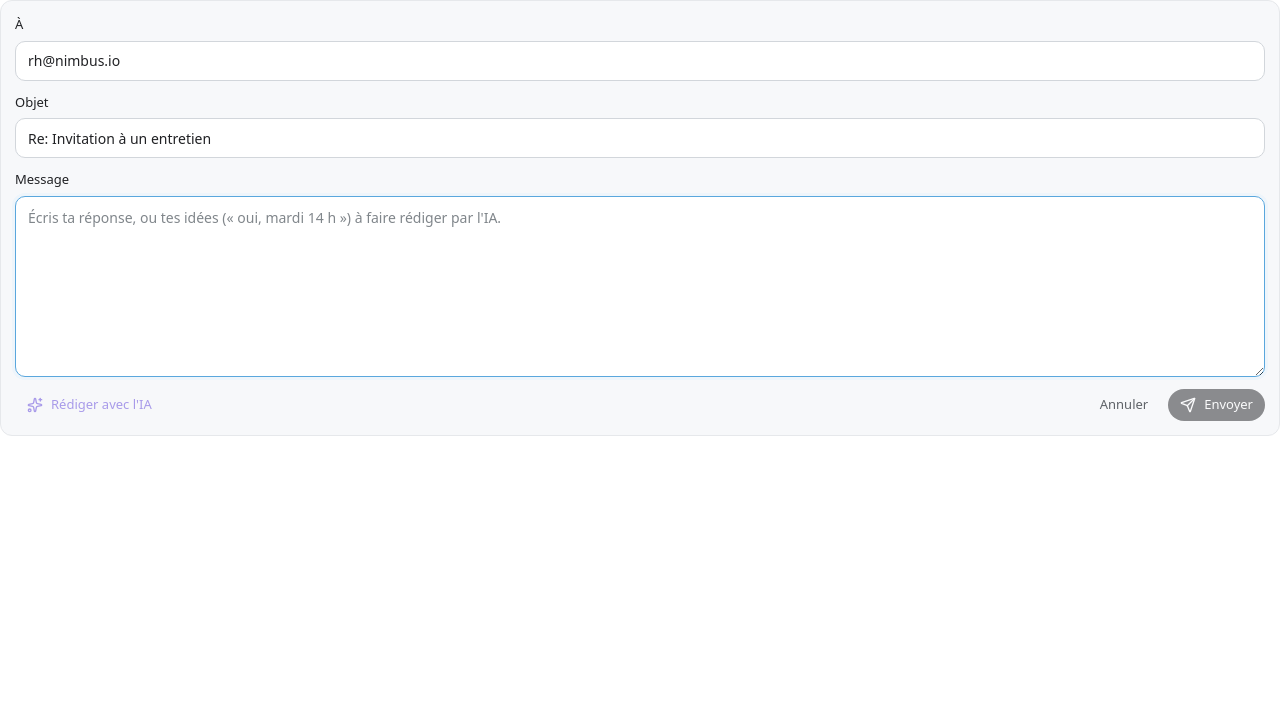
Scenario: ReplyComposer › keeps the text and shows the reason when the send fails
The width and height of the screenshot is (1280, 720).
Step 1. Type "Bonjour" into the text box labelled "Message" → x=640, y=286, box [15,196,1265,377]
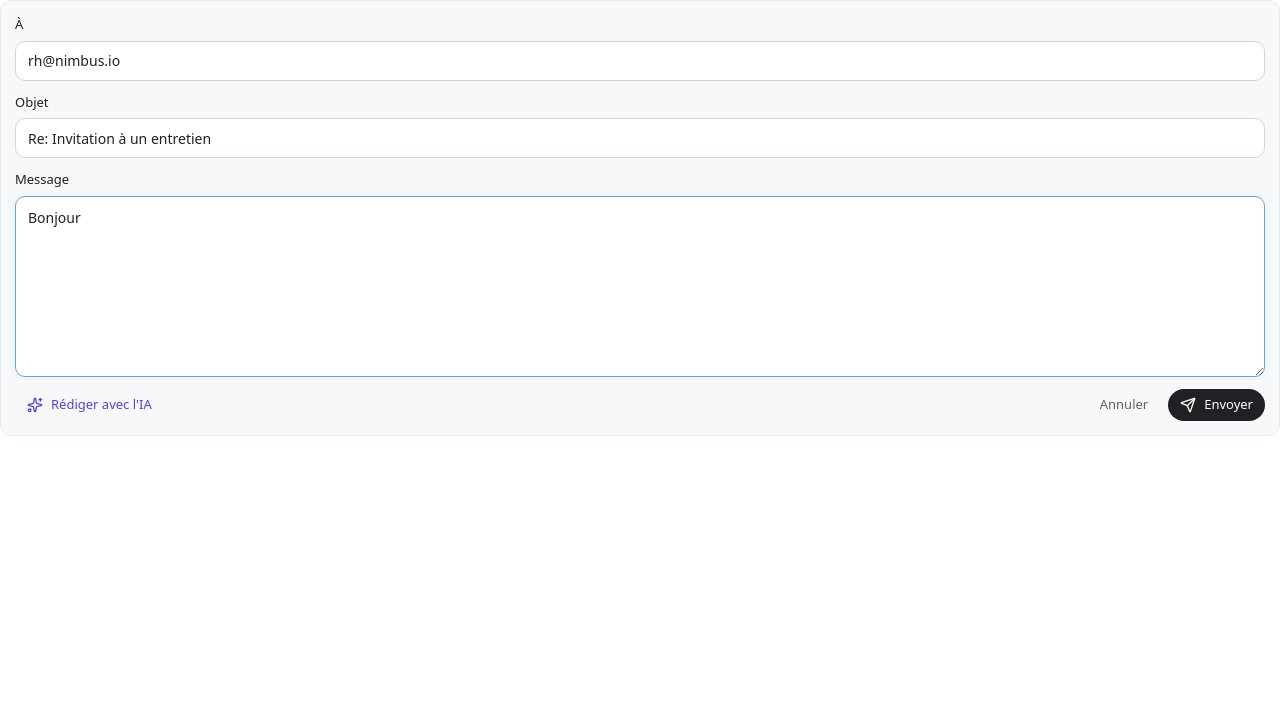
Step 2. Click the button "Envoyer" → x=1217, y=405, box [1168,389,1265,421]
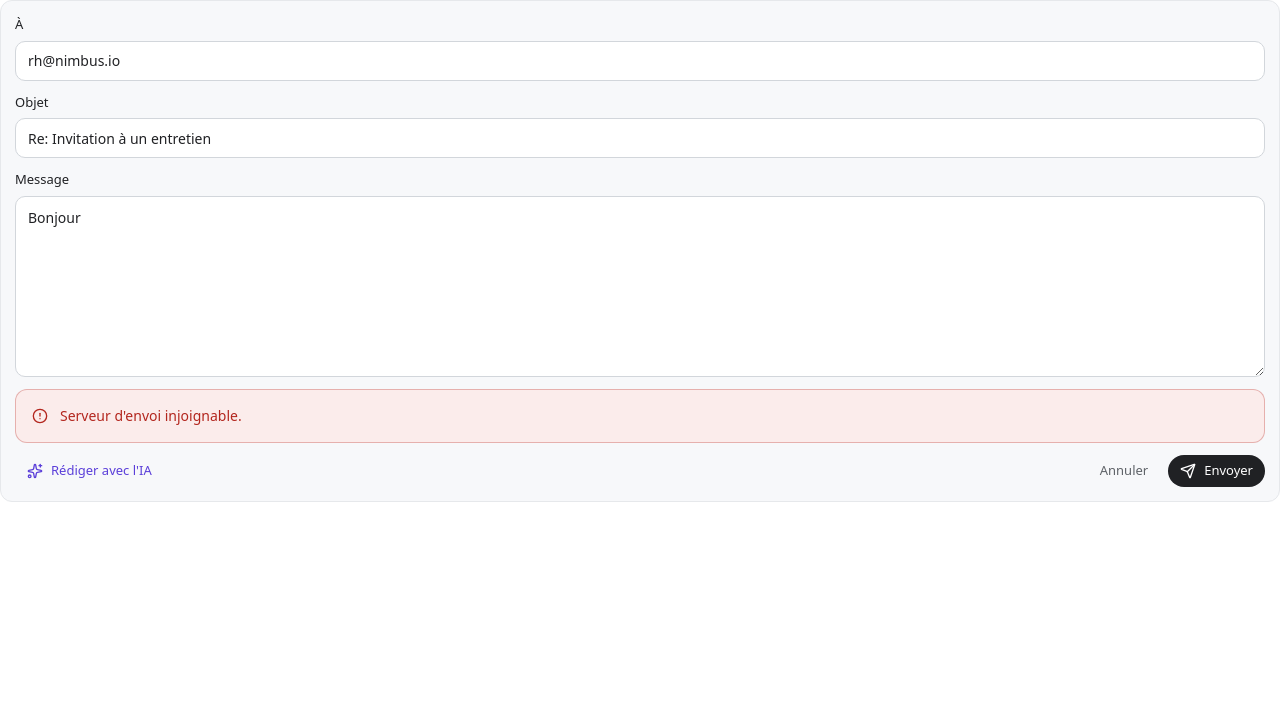
Result: the text "Serveur d'envoi injoignable." is shown at [60,406,242,426]
